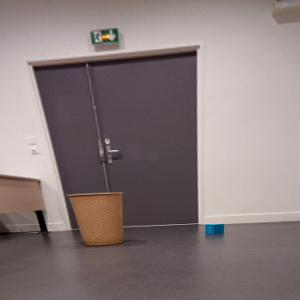medium: (72, 191, 126, 247)
small: (205, 222, 225, 235)
